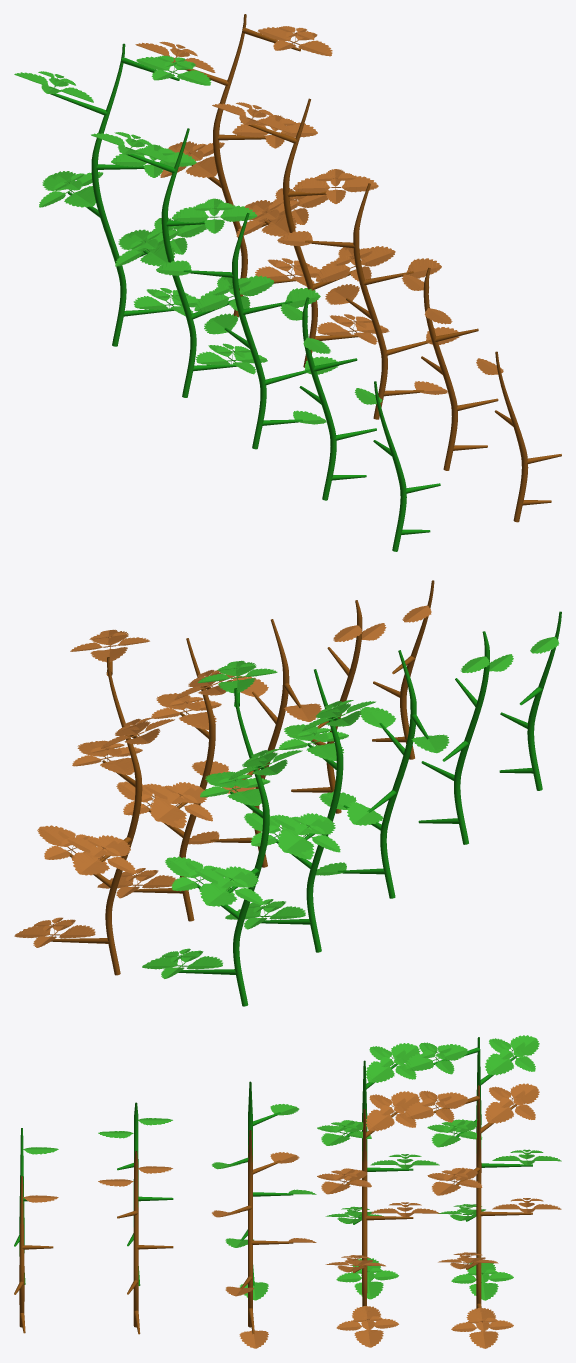
Rendered from Menthe.glb.
3 renders of one model, top to bottom at view 1: azimuth 30°, elevation 25°; view 2: azimuth 150°, elevation 25°; view 3: azimuth 270°, elevation 25°, orthographic. The views are drawn at different scales.
Visible parts, largest first — view 1: BézierCurveFleur.001, BézierCurveFleur.002, BézierCurveFleur.007, BézierCurveFleur.006, BézierCurveFleur.003, BézierCurveFleur.008, BézierCurveFleur.009, BézierCurveFleur.004, BézierCurveFleur.005, Cylinder.005; view 2: BézierCurveFleur.006, BézierCurveFleur.001, BézierCurveFleur.002, BézierCurveFleur.007, BézierCurveFleur.003, BézierCurveFleur.008, BézierCurveFleur.004, BézierCurveFleur.009, BézierCurveFleur.005, Cylinder.005; view 3: BézierCurveFleur.006, BézierCurveFleur.001, BézierCurveFleur.007, BézierCurveFleur.002, BézierCurveFleur.008, BézierCurveFleur.009, BézierCurveFleur.003, Cylinder.005, BézierCurveFleur.004, BézierCurveFleur.005.
Boxes of the visible parts, left/top/right/bottom form: BézierCurveFleur.001: left=14, top=43, right=211, bottom=346; BézierCurveFleur.002: left=91, top=128, right=274, bottom=397; BézierCurveFleur.007: left=212, top=98, right=395, bottom=367; BézierCurveFleur.006: left=135, top=14, right=332, bottom=316; BézierCurveFleur.003: left=156, top=213, right=338, bottom=449; BézierCurveFleur.008: left=277, top=183, right=459, bottom=419; BézierCurveFleur.009: left=401, top=267, right=498, bottom=470; BézierCurveFleur.004: left=280, top=297, right=376, bottom=500; BézierCurveFleur.005: left=354, top=381, right=440, bottom=551; Cylinder.005: left=476, top=351, right=561, bottom=522; BézierCurveFleur.006: left=14, top=629, right=174, bottom=975; BézierCurveFleur.001: left=142, top=660, right=302, bottom=1006; BézierCurveFleur.002: left=225, top=669, right=375, bottom=952; BézierCurveFleur.007: left=97, top=638, right=234, bottom=921; BézierCurveFleur.003: left=316, top=650, right=449, bottom=898; BézierCurveFleur.008: left=188, top=619, right=321, bottom=867; BézierCurveFleur.004: left=418, top=631, right=513, bottom=844; BézierCurveFleur.009: left=291, top=600, right=386, bottom=813; BézierCurveFleur.005: left=499, top=611, right=561, bottom=790; Cylinder.005: left=372, top=580, right=434, bottom=759; BézierCurveFleur.006: left=405, top=1083, right=561, bottom=1348; BézierCurveFleur.001: left=405, top=1035, right=561, bottom=1300; BézierCurveFleur.007: left=317, top=1091, right=439, bottom=1347; BézierCurveFleur.002: left=317, top=1043, right=439, bottom=1299; BézierCurveFleur.008: left=212, top=1130, right=316, bottom=1348; BézierCurveFleur.009: left=98, top=1151, right=173, bottom=1334; BézierCurveFleur.003: left=212, top=1081, right=316, bottom=1300; Cylinder.005: left=14, top=1176, right=58, bottom=1333; BézierCurveFleur.004: left=98, top=1102, right=173, bottom=1285; BézierCurveFleur.005: left=14, top=1128, right=58, bottom=1284.
Bounding box in the file's own units: 2.38 × 2.36 × 4.8.
